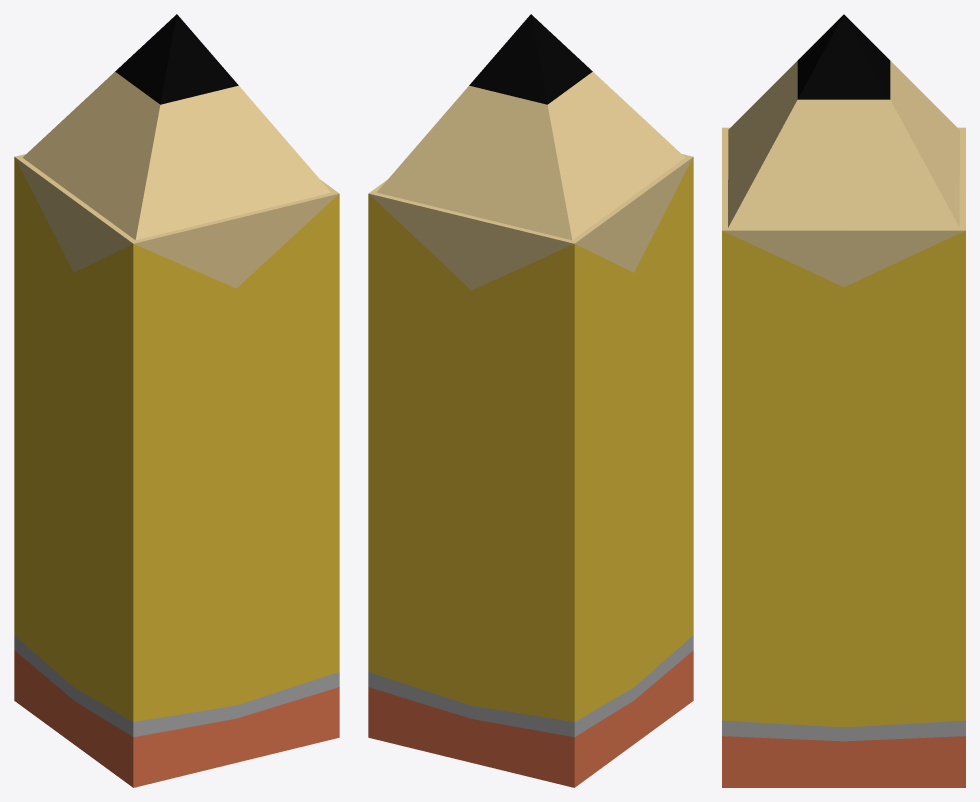
Rendered from pencil.fbx.
3 views of the same model, side by side, from view 1: azimuth 30°, elevation 25°; view 2: azimuth 150°, elevation 25°; view 3: azimuth 270°, elevation 25° (orthographic). The views are drawn at different scales.
Parts seen in each view (by area): view 1: Cone; view 2: Cone; view 3: Cone.
Part boxes in pixels (x1=…): Cone: x1=14, y1=14, x2=339, y2=787; Cone: x1=368, y1=14, x2=693, y2=787; Cone: x1=722, y1=14, x2=965, y2=787.
Bounding box in the file's own units: 200 × 654 × 200.
